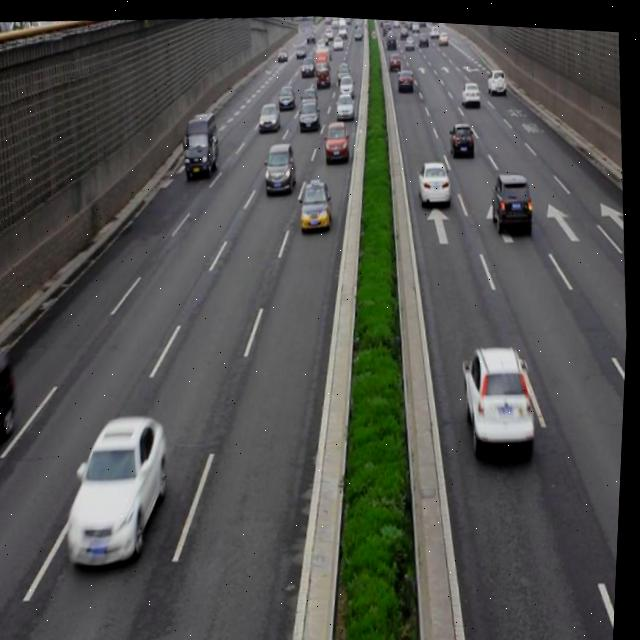car: (62, 408, 179, 566), (461, 334, 539, 445), (490, 164, 535, 232), (298, 174, 334, 229), (416, 152, 453, 203), (322, 114, 352, 161), (447, 115, 476, 156), (296, 95, 322, 128), (258, 97, 282, 132), (334, 89, 356, 118)
truck: (182, 110, 223, 175), (263, 137, 300, 192)
